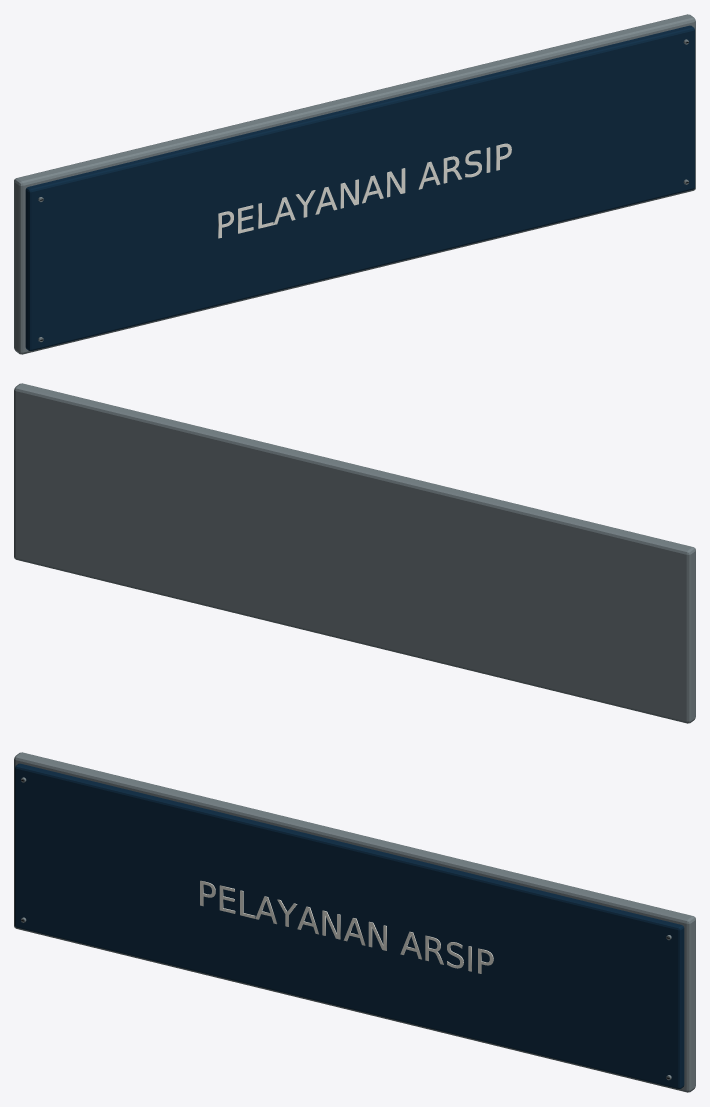
File: OAA_Papan_Ruang_Pelayanan_Arsip.fbx
3 views of the same model, one above another, from view 1: azimuth 30°, elevation 25°; view 2: azimuth 150°, elevation 25°; view 3: azimuth 330°, elevation 25° (orthographic).
Parts seen in each view (by area): view 1: Body; view 2: Body; view 3: Body.
Boxes of the visible parts, x1,y1,x2,y2 form: Body: (14, 14, 695, 354); Body: (14, 383, 695, 723); Body: (14, 752, 695, 1092).
Size of the model in its own units: 0.9 by 0.22 by 0.0312.
